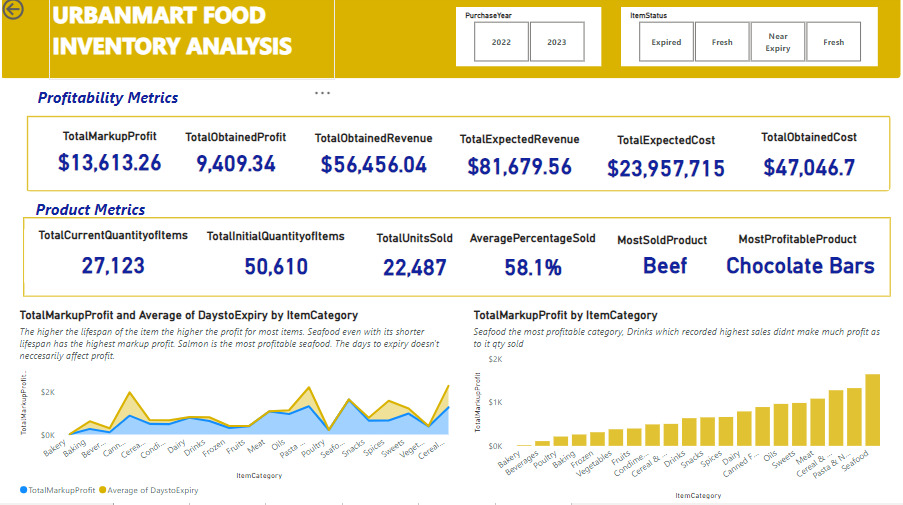

Layout of this report page (visuals, bound fields, positions):
{"tool":"powerbi","page":{"name":"Page 1","canvas":[1280,720],"ordinal":0},"visuals":[{"type":"shape","box":[34,314.2,1230.2,113.4],"z":0},{"type":"shape","box":[35.4,166.8,1230.2,113.4],"z":1000},{"type":"shape","box":[0,0,1280,120.1],"z":2000},{"type":"textbox","box":[70.9,0,405.1,120.1],"z":3000},{"type":"card","title":"TotalUnitsSold","fields":{"Values":["CleanData.Total Units Sold"]},"box":[513.1,329.8,150.2,85],"z":4000},{"type":"card","title":"TotalExpectedRevenue","fields":{"Values":["CleanData.TotalExpectedRevenue"]},"box":[622.2,189.9,229.6,79.4],"z":5000},{"type":"card","title":"TotalCurrentQuantityofItems","fields":{"Values":["CleanData.TotalCurrentQuantityOfItems"]},"box":[35.4,326,250.9,87.9],"z":6000},{"type":"card","title":"MostProfitableProduct","fields":{"Values":["Min(CleanData.ItemName)"]},"box":[1012,331.7,238.1,76.5],"z":7000},{"type":"card","title":"MostSoldProduct","fields":{"Values":["Min(CleanData.ItemName)"]},"box":[851.8,333.1,174.3,75.1],"z":8000},{"type":"actionButton","box":[0,0,100,40],"z":9000},{"type":"card","title":"TotalInitialQuantityofItems","fields":{"Values":["CleanData.TotalInitialQuantityOfItems"]},"box":[277.8,327.4,226.8,87.9],"z":10000},{"type":"card","title":"AveragePercentageSold","fields":{"Values":["Avg(CleanData.PercentageSold)"]},"box":[649.1,330.2,212.6,85],"z":11000},{"type":"card","title":"TotalObtainedRevenue","fields":{"Values":["CleanData.Total ObtainedRevenuePerProduct"]},"box":[422.4,188.5,215.4,76.5],"z":12000},{"type":"card","title":"TotalExpectedCost","fields":{"Values":["CleanData.TotalExpectedCost"]},"box":[841.9,191.3,205.5,82.2],"z":13000},{"type":"card","title":"TotalMarkupProfit","fields":{"Values":["CleanData.TotalMarkupProfit"]},"box":[59.5,185.7,192.8,76.5],"z":14000},{"type":"slicer","fields":{"Values":["CleanData.PurchaseYear"]},"box":[647.7,17,205.5,83.6],"z":15000},{"type":"card","title":"TotalObtainedProfit","fields":{"Values":["CleanData.TotalObtainedProfit"]},"box":[233.9,187.1,201.3,76.5],"z":17000},{"type":"card","title":"TotalObtainedCost","fields":{"Values":["CleanData.TotalObtainedCost"]},"box":[1047.4,187.1,199.8,89.3],"z":18000},{"type":"slicer","fields":{"Values":["CleanData.ItemStatus"]},"box":[881.6,17,364.3,83.6],"z":19000},{"type":"textbox","box":[49.6,124.3,344.4,42.5],"z":20000},{"type":"textbox","box":[46.7,283.2,344.4,42.5],"z":21000},{"type":"stackedAreaChart","fields":{"Y":["CleanData.TotalMarkupProfit","Avg(CleanData.DaystoExpiry)"],"Category":["CleanData.ItemCategory","CleanData.ItemName"]},"box":[24.1,443.6,629.3,276.4],"z":22000},{"type":"clusteredColumnChart","title":"TotalMarkupProfit by ItemCategory","fields":{"Y":["CleanData.TotalMarkupProfit"],"Category":["CleanData.ItemCategory","CleanData.ItemName"]},"box":[667.6,443.6,596.7,276.4],"z":23000}]}

Visuals, with their boxes in screenshot pixels (x1, y1, x2, y2), scaled from the page's 1280x720 canvas onto the 903x505 screenshot:
shape: (x1=24, y1=220, x2=892, y2=300)
shape: (x1=25, y1=117, x2=893, y2=197)
shape: (x1=0, y1=0, x2=902, y2=84)
textbox: (x1=50, y1=0, x2=336, y2=84)
"TotalUnitsSold" card: (x1=362, y1=231, x2=468, y2=291)
"TotalExpectedRevenue" card: (x1=439, y1=133, x2=601, y2=189)
"TotalCurrentQuantityofItems" card: (x1=25, y1=229, x2=202, y2=290)
"MostProfitableProduct" card: (x1=714, y1=233, x2=882, y2=286)
"MostSoldProduct" card: (x1=601, y1=234, x2=724, y2=286)
actionButton: (x1=0, y1=0, x2=71, y2=28)
"TotalInitialQuantityofItems" card: (x1=196, y1=230, x2=356, y2=291)
"AveragePercentageSold" card: (x1=458, y1=232, x2=608, y2=291)
"TotalObtainedRevenue" card: (x1=298, y1=132, x2=450, y2=186)
"TotalExpectedCost" card: (x1=594, y1=134, x2=739, y2=192)
"TotalMarkupProfit" card: (x1=42, y1=130, x2=178, y2=184)
slicer - CleanData.PurchaseYear: (x1=457, y1=12, x2=602, y2=71)
"TotalObtainedProfit" card: (x1=165, y1=131, x2=307, y2=185)
"TotalObtainedCost" card: (x1=739, y1=131, x2=880, y2=194)
slicer - CleanData.ItemStatus: (x1=622, y1=12, x2=879, y2=71)
textbox: (x1=35, y1=87, x2=278, y2=117)
textbox: (x1=33, y1=199, x2=276, y2=228)
stackedAreaChart - CleanData.TotalMarkupProfit x Avg(CleanData.DaystoExpiry): (x1=17, y1=311, x2=461, y2=504)
"TotalMarkupProfit by ItemCategory" clusteredColumnChart: (x1=471, y1=311, x2=892, y2=504)
